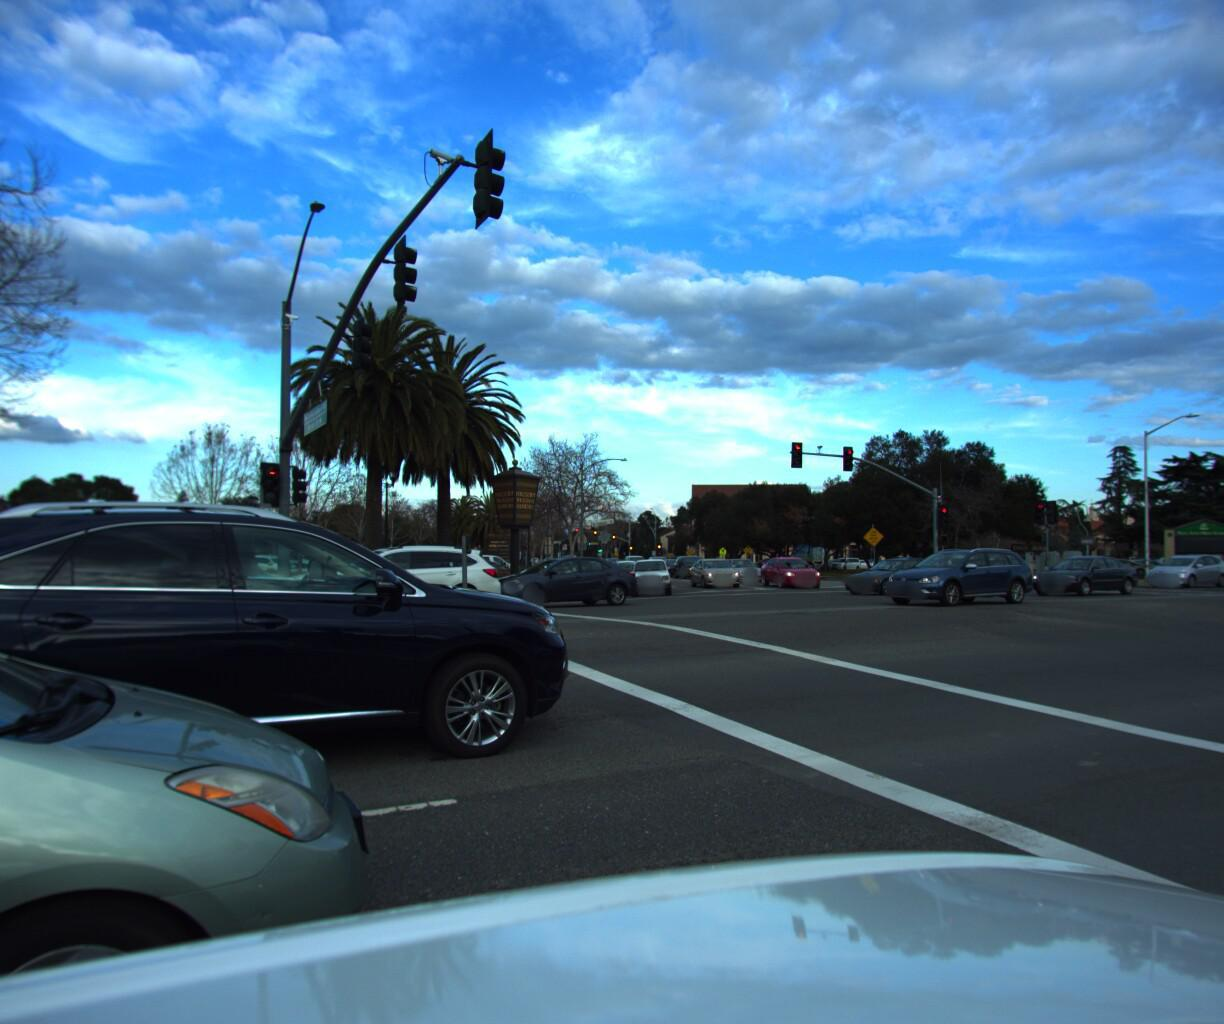car: (0, 488, 575, 863), (0, 550, 429, 1024), (0, 509, 362, 735), (254, 539, 501, 628), (472, 553, 646, 613), (870, 544, 1038, 606), (1021, 547, 1142, 593), (836, 552, 945, 592), (0, 525, 24, 672), (1139, 550, 1224, 585), (750, 551, 825, 585), (682, 552, 741, 585), (626, 553, 671, 596), (452, 549, 519, 574), (712, 552, 764, 579), (606, 555, 644, 584), (668, 554, 708, 577)
